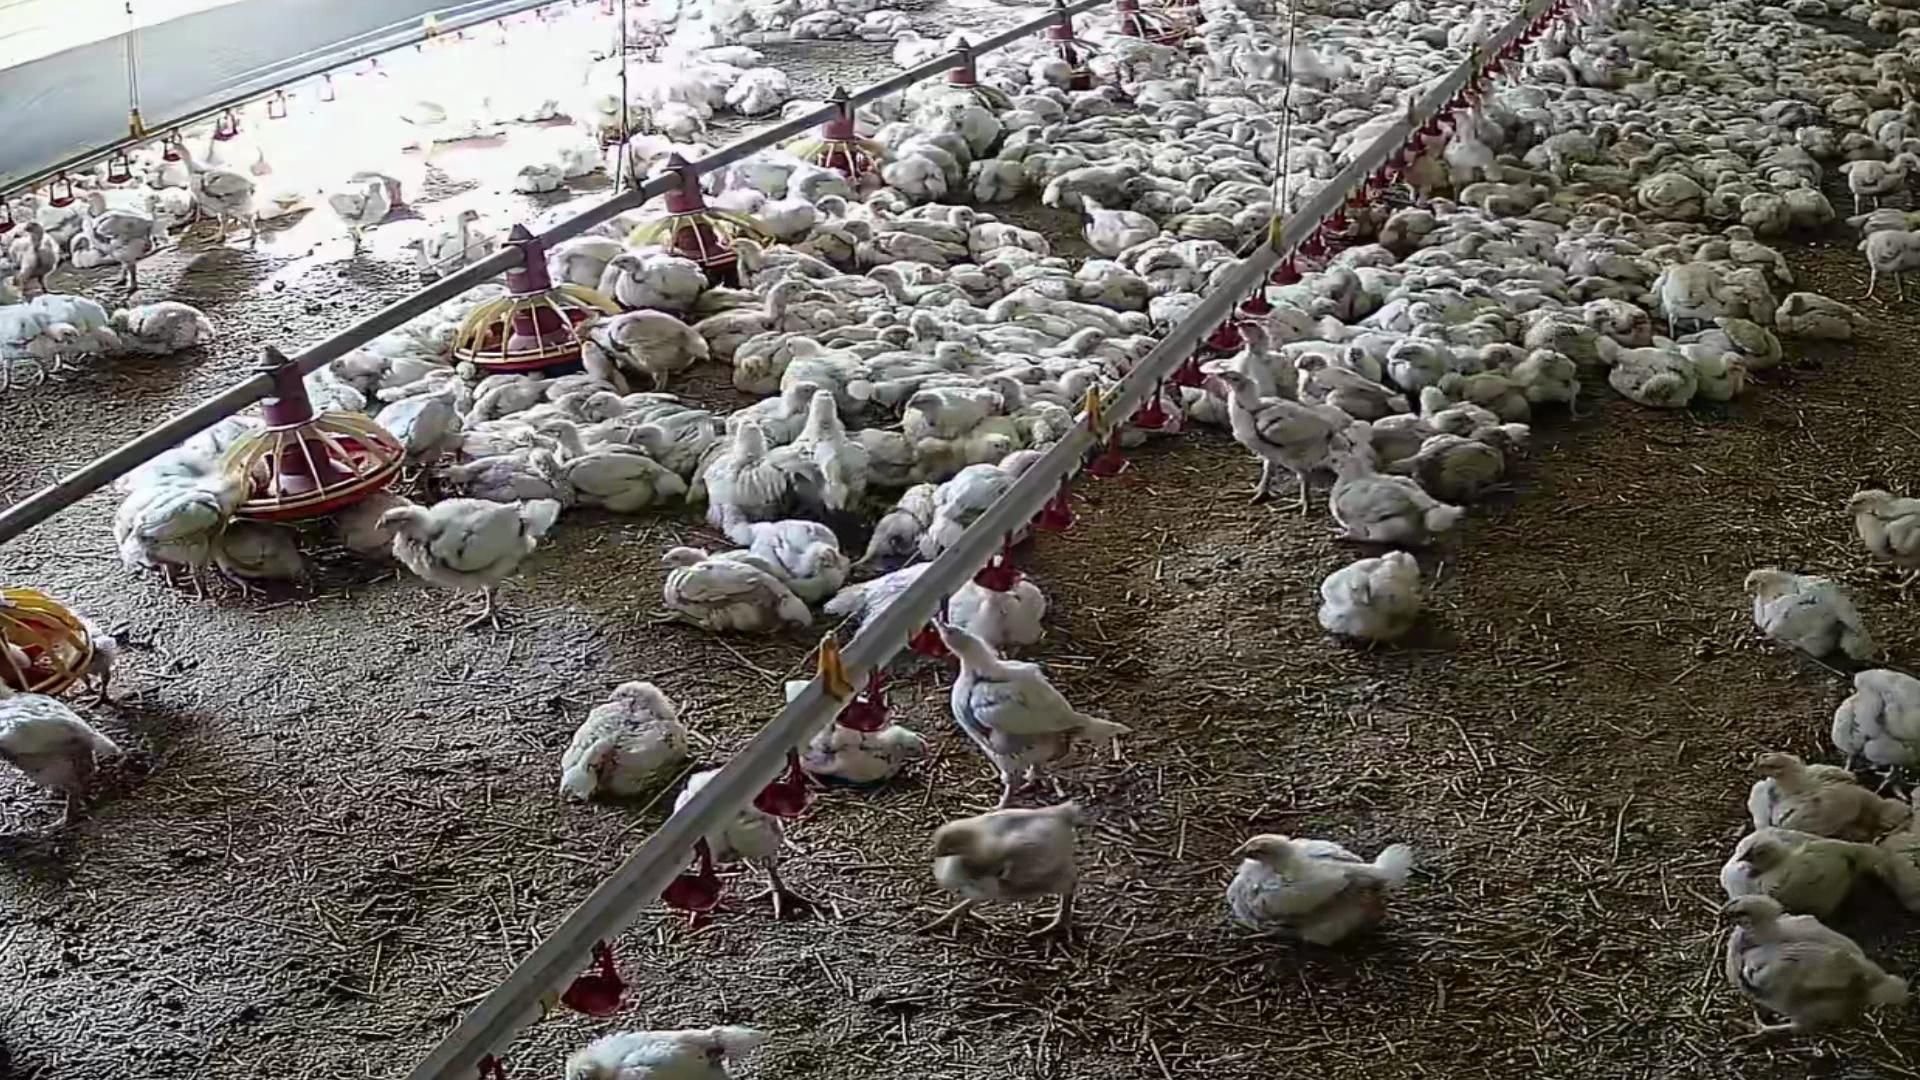poussin: (934, 618, 1127, 790), (1717, 895, 1904, 1042), (1221, 823, 1408, 953), (380, 504, 563, 633), (662, 765, 822, 910), (931, 803, 1084, 934), (778, 675, 934, 794), (1733, 559, 1883, 682), (1712, 819, 1887, 922), (102, 475, 269, 578), (1731, 732, 1883, 844), (0, 588, 146, 702), (0, 684, 109, 829), (1224, 371, 1338, 506), (556, 684, 682, 802), (1325, 451, 1452, 566), (650, 546, 820, 628), (559, 1019, 770, 1080), (951, 541, 1055, 655), (542, 430, 708, 498), (211, 521, 335, 612), (1313, 553, 1419, 647), (711, 414, 787, 541), (170, 142, 262, 247), (1836, 673, 1920, 786), (1838, 469, 1920, 575), (592, 319, 695, 398), (1601, 331, 1697, 414), (736, 530, 857, 595), (1650, 260, 1759, 331), (454, 363, 559, 436), (790, 386, 847, 522), (919, 465, 1022, 539), (381, 382, 463, 468), (869, 475, 949, 562), (1290, 357, 1386, 430), (1772, 289, 1869, 361), (603, 252, 713, 314), (1396, 439, 1513, 497), (90, 189, 153, 294), (1423, 392, 1530, 451), (1495, 349, 1580, 423), (1660, 331, 1750, 400), (1876, 787, 1920, 926), (47, 294, 120, 375), (1234, 319, 1305, 398), (1360, 410, 1472, 459), (108, 301, 212, 352), (583, 404, 738, 438), (0, 309, 67, 388), (343, 487, 405, 571), (723, 287, 802, 353), (335, 169, 390, 261), (103, 454, 256, 487), (742, 330, 831, 385), (845, 222, 957, 265), (1520, 305, 1606, 360), (794, 343, 876, 398), (455, 460, 585, 495), (546, 231, 624, 287), (1447, 375, 1543, 419), (731, 241, 839, 281), (1449, 107, 1505, 182), (1389, 332, 1458, 392), (1046, 160, 1139, 203), (1072, 253, 1145, 306), (913, 311, 990, 360), (727, 385, 836, 419), (1684, 330, 1780, 368), (725, 62, 789, 120), (396, 237, 495, 274), (1635, 178, 1713, 224), (426, 207, 480, 273), (965, 218, 1060, 255), (1847, 157, 1920, 204), (1866, 232, 1920, 295), (1048, 297, 1151, 330), (1080, 199, 1147, 249), (7, 228, 55, 297), (1451, 338, 1511, 392), (1287, 339, 1385, 372), (934, 100, 1000, 149), (993, 372, 1050, 429), (897, 138, 969, 182), (1406, 140, 1456, 202), (870, 342, 968, 373), (640, 98, 712, 140), (26, 195, 86, 247), (935, 439, 1023, 473), (742, 196, 819, 236), (1536, 121, 1615, 158), (1457, 282, 1553, 313), (1735, 190, 1792, 241), (554, 331, 596, 400), (781, 98, 865, 132), (874, 157, 952, 194), (911, 389, 994, 423), (988, 328, 1101, 353), (608, 132, 665, 182), (1704, 181, 1771, 223), (1408, 227, 1487, 262), (166, 422, 273, 448), (897, 25, 948, 79), (1845, 207, 1920, 244), (1153, 291, 1205, 343), (1312, 270, 1366, 320), (967, 162, 1031, 203), (699, 281, 778, 314), (1575, 153, 1652, 185), (911, 128, 982, 162), (1047, 371, 1113, 406), (1068, 83, 1131, 120), (993, 92, 1056, 128), (793, 167, 860, 200), (1501, 57, 1542, 111), (742, 153, 802, 190), (500, 164, 575, 193), (855, 327, 918, 361), (1435, 311, 1513, 339), (1174, 215, 1247, 244), (815, 198, 885, 228), (589, 92, 634, 138), (1129, 75, 1199, 104), (791, 7, 844, 45), (1462, 320, 1526, 352), (1195, 50, 1238, 95), (1174, 235, 1228, 270), (881, 269, 952, 295), (947, 302, 1026, 326), (1112, 227, 1176, 256), (554, 141, 615, 171), (1789, 186, 1829, 232), (891, 207, 977, 228), (839, 310, 898, 340), (1247, 116, 1315, 142), (993, 264, 1068, 286), (1375, 276, 1433, 305), (463, 425, 553, 443), (1650, 231, 1705, 260), (1026, 57, 1075, 88), (1331, 243, 1395, 266), (855, 16, 911, 42), (1840, 128, 1884, 161), (1577, 215, 1621, 248), (699, 190, 762, 211), (1218, 177, 1273, 200), (1097, 339, 1162, 359), (1131, 251, 1185, 273), (1453, 182, 1530, 198), (1055, 137, 1131, 153), (1175, 199, 1242, 216), (1142, 174, 1215, 190), (1138, 270, 1200, 289), (1414, 252, 1491, 266), (1422, 199, 1478, 219), (803, 310, 840, 339), (1005, 124, 1044, 149), (1113, 140, 1154, 164), (1408, 306, 1447, 331), (1584, 191, 1629, 208), (1200, 146, 1251, 161), (1142, 115, 1193, 129), (1164, 140, 1204, 157), (1650, 141, 1681, 162), (1150, 127, 1183, 145), (1229, 214, 1274, 227), (1611, 207, 1630, 233)
